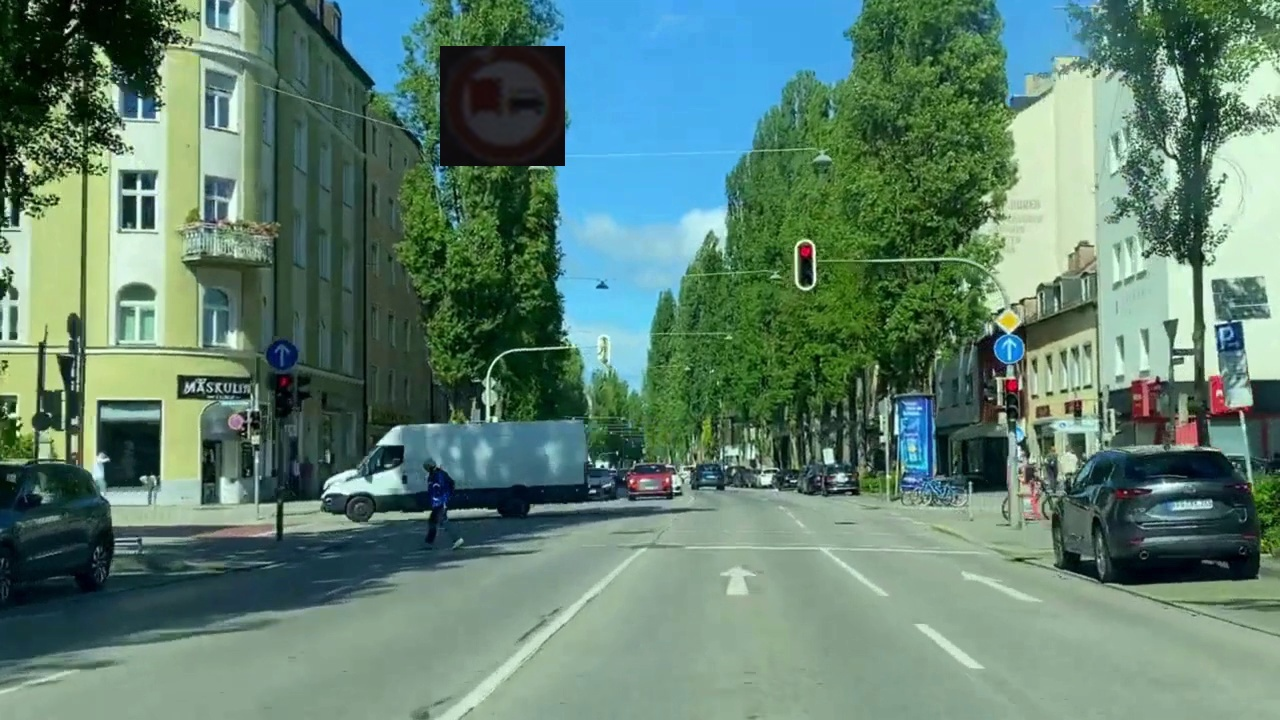No pass >3.5t: (440, 46, 565, 166)
